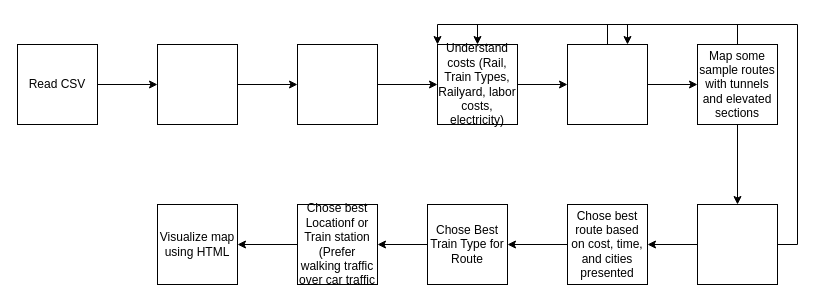
The diagram is 823 pixels wide and 305 high, and some of its shapes have lost their labels. The shapes that lost their labels are listed below. From the top down, each one's centre as x and y in pixels, then its label:
At (x=197, y=84): "Understand population".
At (x=337, y=84): "Understand demand (online sources)".
At (x=607, y=84): "Understand terrain using open source".
At (x=737, y=244): "Optimise Route with change cities".
